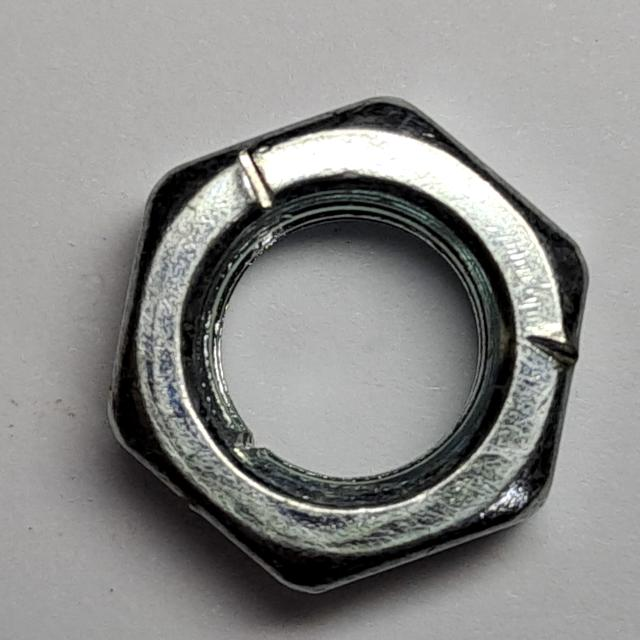Scratches: (87, 79, 603, 612)
